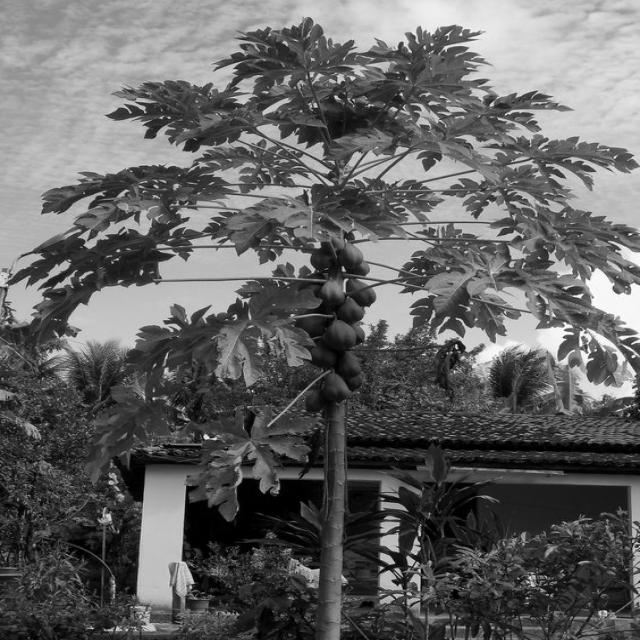Papaya-Tree: (93, 28, 582, 639)
